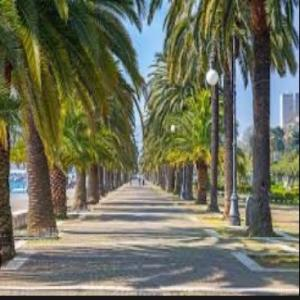palm tree: (0, 0, 146, 262), (142, 0, 300, 237)
